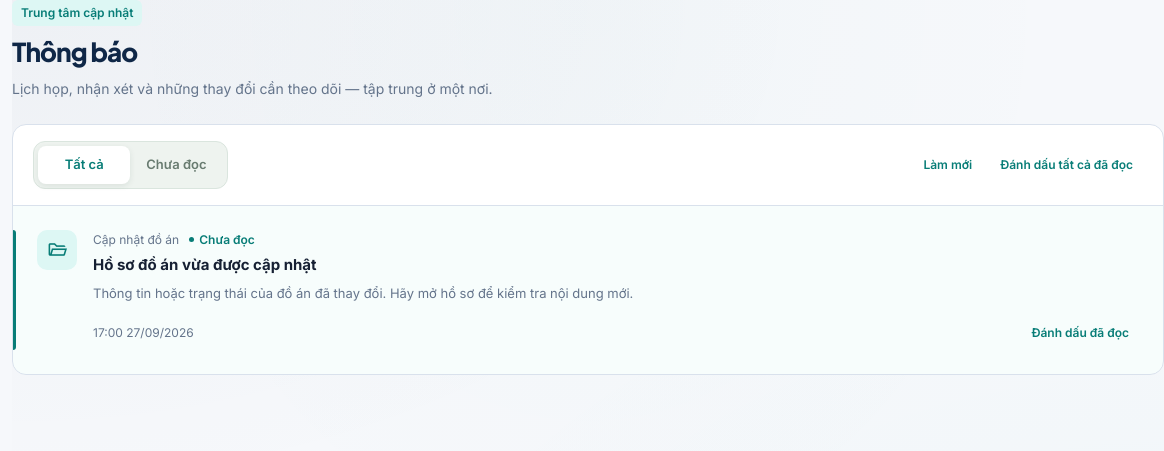
Test: NotificationsPage › keeps the unread item visible when marking it fails
This screenshot has width=1164, height=451.
Expected: the heading "Hồ sơ đồ án vừa được cập nhật" is shown, [93,255,316,274]
What coordinates should you click on to do the following:
click the button "Đánh dấu đã đọc"
I would click on:
 (1080, 332)
Its box is [1021,314,1139,350].
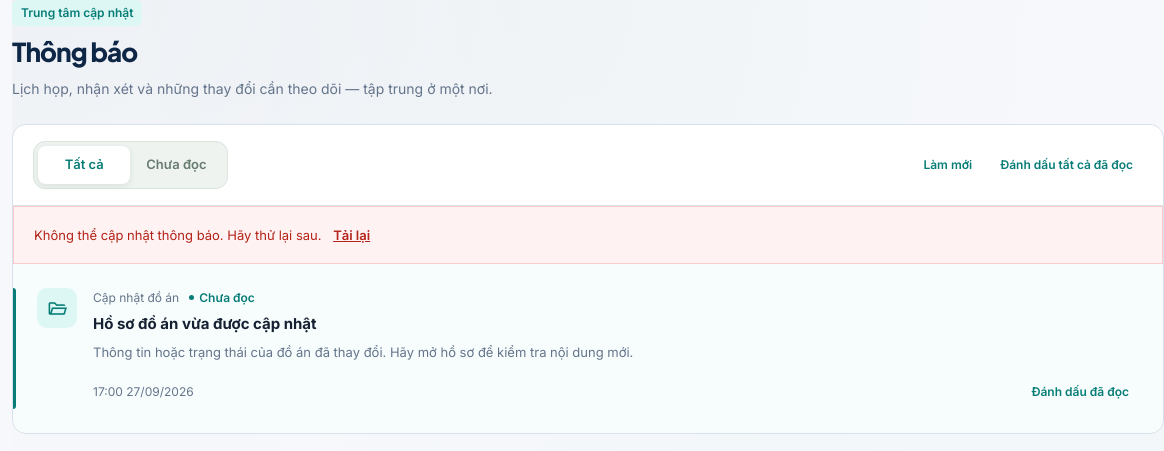
Expected: the heading "Hồ sơ đồ án vừa được cập nhật" is shown, [93,314,316,333]
Result: the message shows "Không thể cập nhật thông báo" at [34,227,322,243]
